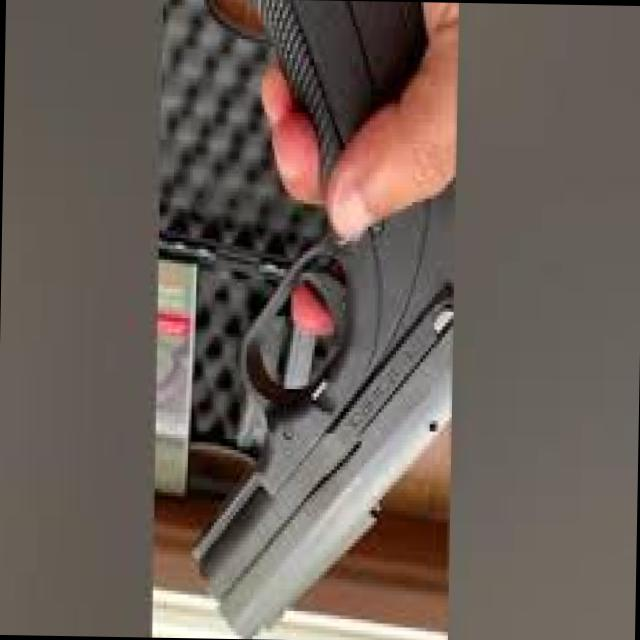Gun: (173, 0, 458, 640)
